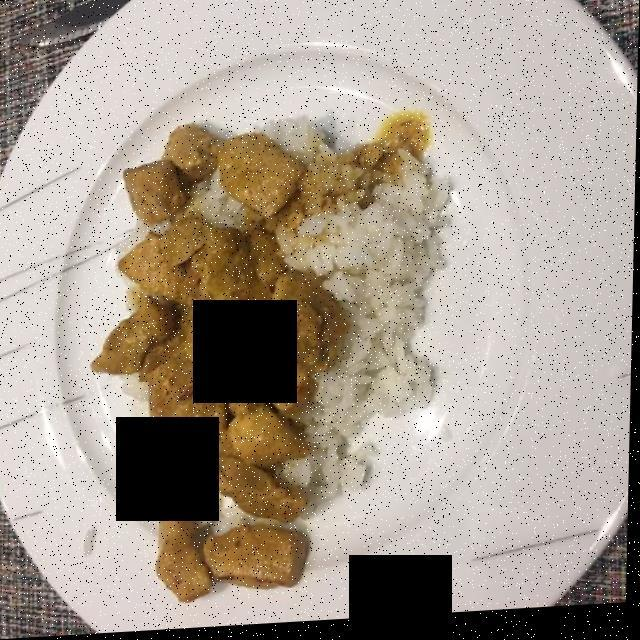chicken: (79, 131, 336, 600)
rice: (286, 108, 447, 491)
